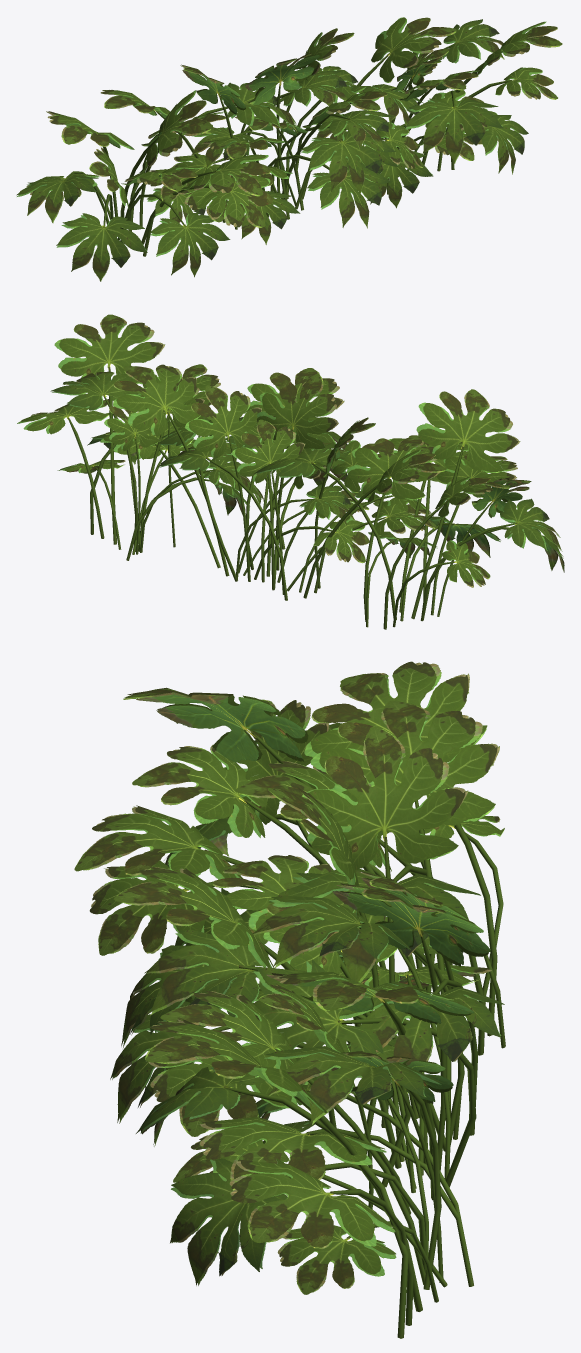
File: NaturePlant05_2.FBX
The picture shows the model from 3 angles, top to bottom: view 1: azimuth 30°, elevation 25°; view 2: azimuth 150°, elevation 25°; view 3: azimuth 270°, elevation 25°; orthographic projection. The views are drawn at different scales.
Visible parts, largest first — view 1: NaturePlant05_2; view 2: NaturePlant05_2; view 3: NaturePlant05_2.
Part boxes in pixels (x1,y1,x2,y2): NaturePlant05_2: (16, 17, 562, 281); NaturePlant05_2: (17, 314, 564, 629); NaturePlant05_2: (74, 661, 505, 1338).
Size of what is drawn, in the model's own units: 3.54 by 1.18 by 1.26.
